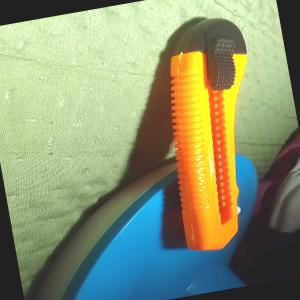estilete: (146, 9, 280, 256)
